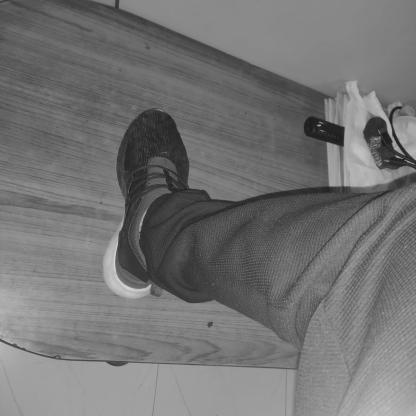ankle: (136, 234, 142, 240)
heel: (126, 294, 131, 297)
pinky: (173, 126, 177, 131)
right_foot: (104, 110, 191, 300)
toe: (141, 119, 146, 124)
